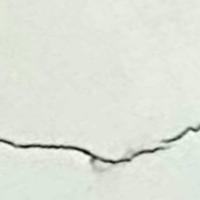crack: (0, 110, 199, 185)
